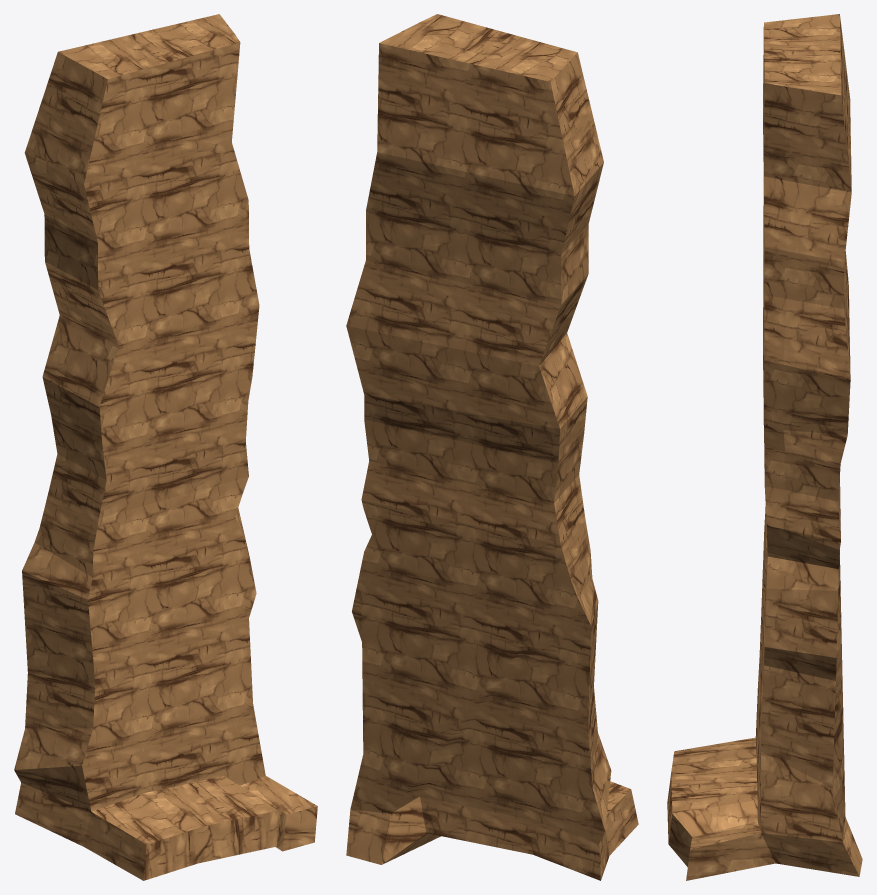
Rendered from plano1.obj.
3 views of the same model, side by side, from view 1: azimuth 30°, elevation 25°; view 2: azimuth 150°, elevation 25°; view 3: azimuth 270°, elevation 25° (orthographic). The views are drawn at different scales.
Parts seen in each view (by area): view 1: Plane_Plane.010; view 2: Plane_Plane.010; view 3: Plane_Plane.010.
Boxes of the visible parts, bbox=[...] form: Plane_Plane.010: bbox=[14, 14, 317, 880]; Plane_Plane.010: bbox=[346, 14, 638, 880]; Plane_Plane.010: bbox=[667, 14, 862, 880].
Size of the model in its own units: 368 by 1156 by 261.
Materials: 1 (1 with a texture image).
